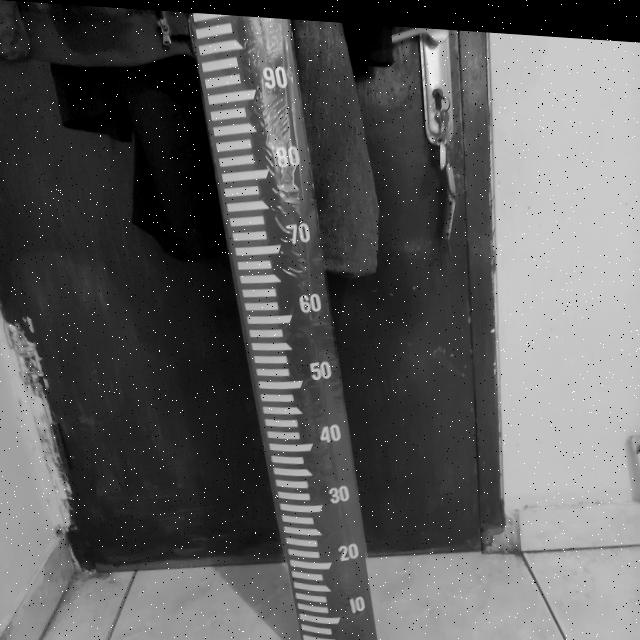water-meter: (181, 12, 400, 640)
